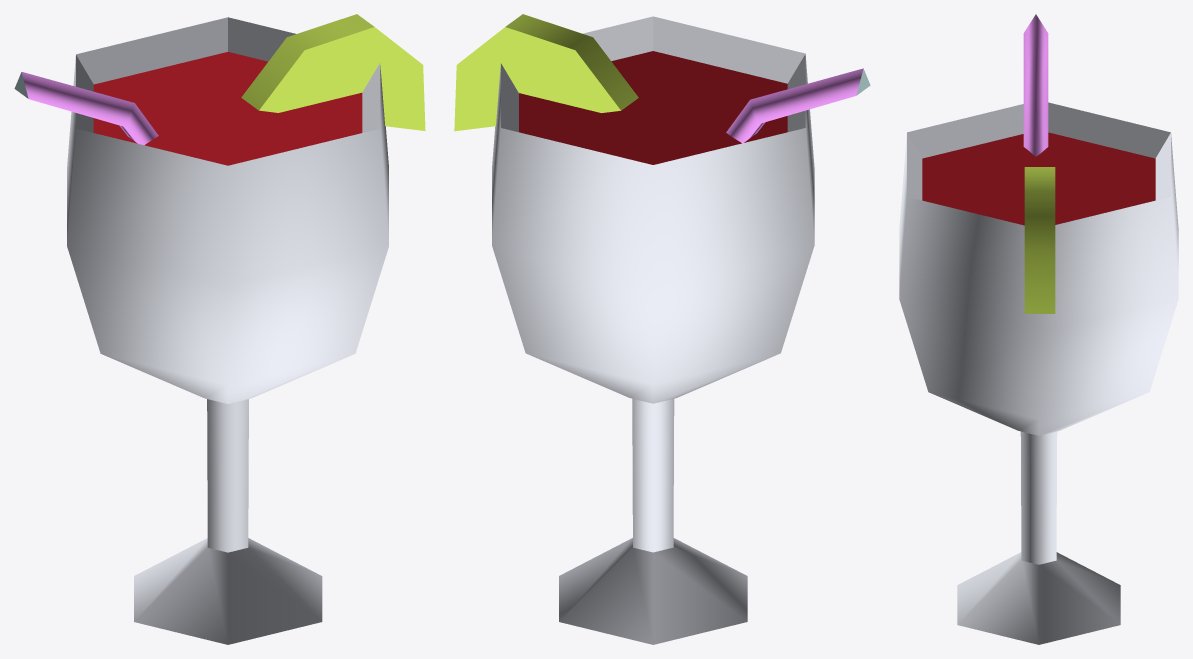
File: Drink_01.fbx
3 views of the same model, side by side, from view 1: azimuth 30°, elevation 25°; view 2: azimuth 150°, elevation 25°; view 3: azimuth 270°, elevation 25° (orthographic). The views are drawn at different scales.
Visible parts, largest first — view 1: Drink_01; view 2: Drink_01; view 3: Drink_01.
Part boxes in pixels (x1,y1,x2,y2): Drink_01: (14,14,425,644); Drink_01: (454,14,870,644); Drink_01: (899,14,1178,644).
Size of the model in its own units: 142 by 198 by 99.79.
